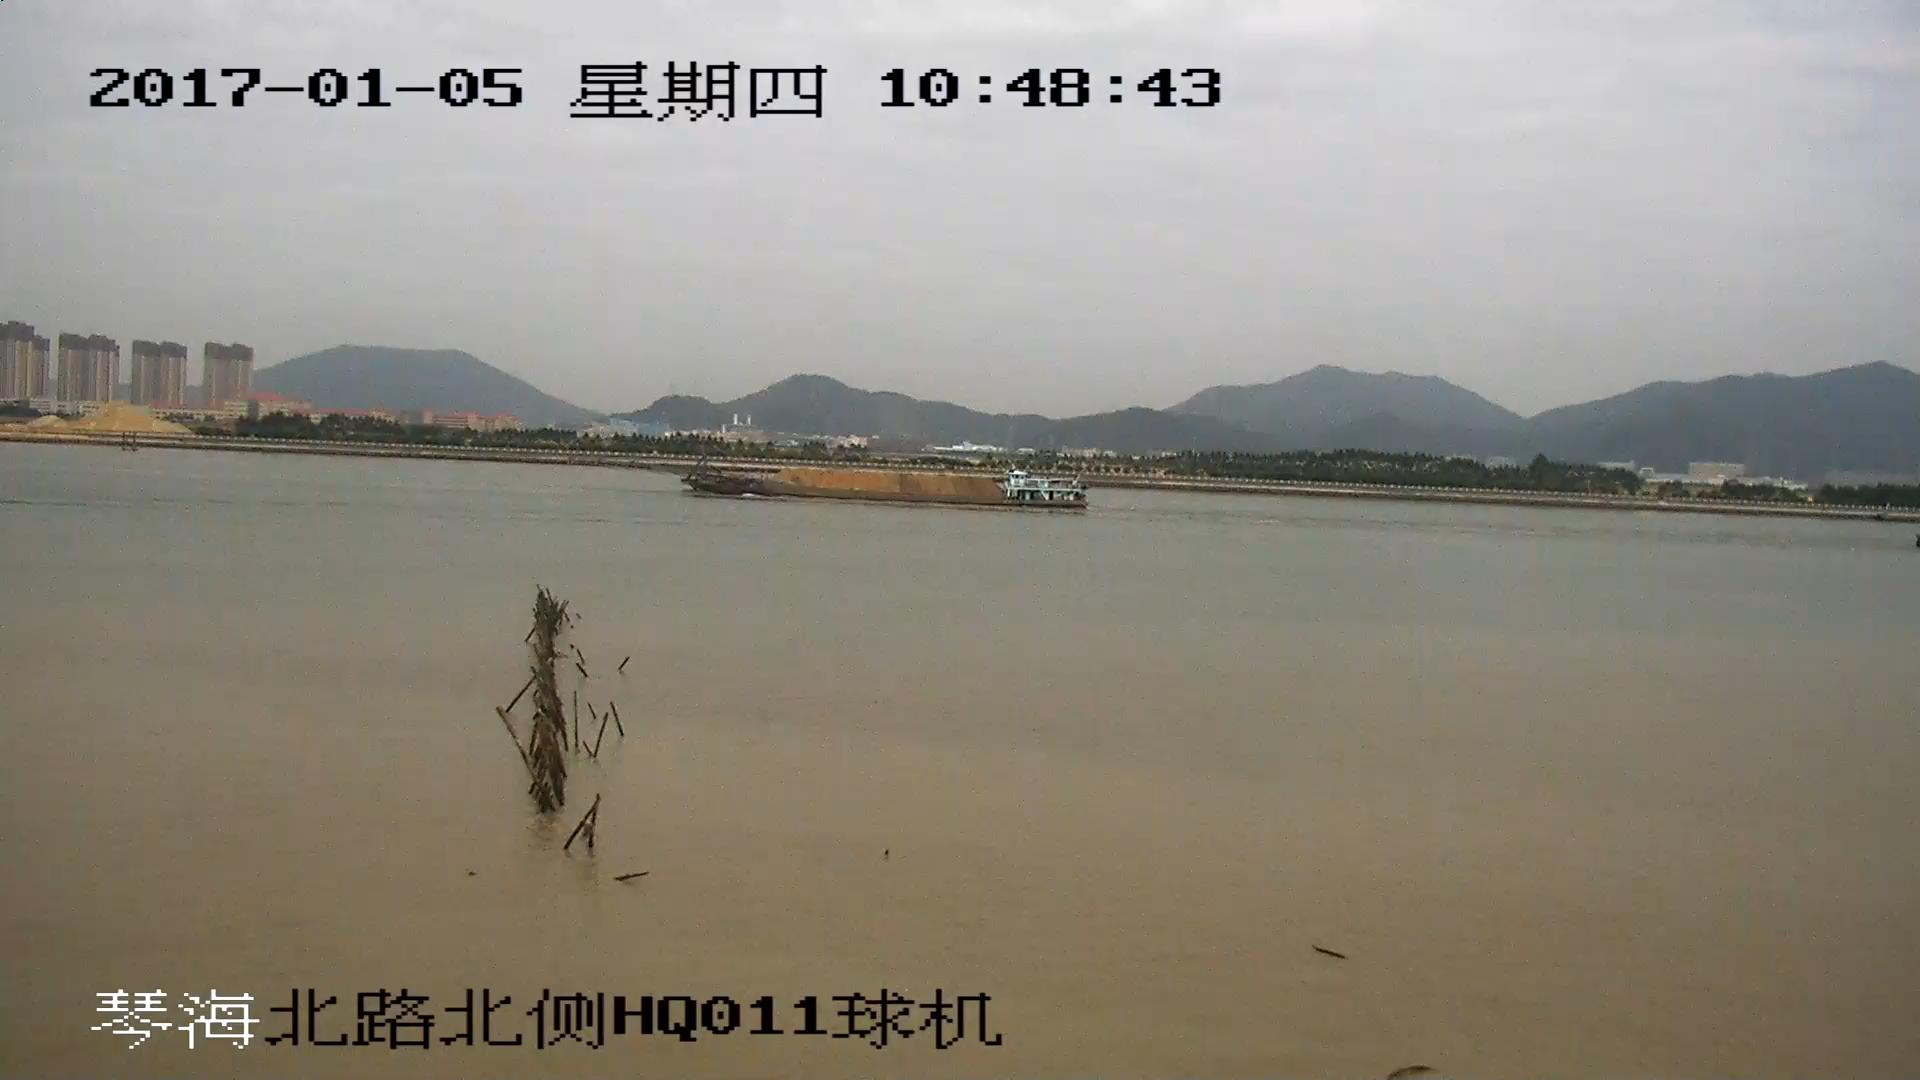ore carrier: (674, 448, 1096, 510)
